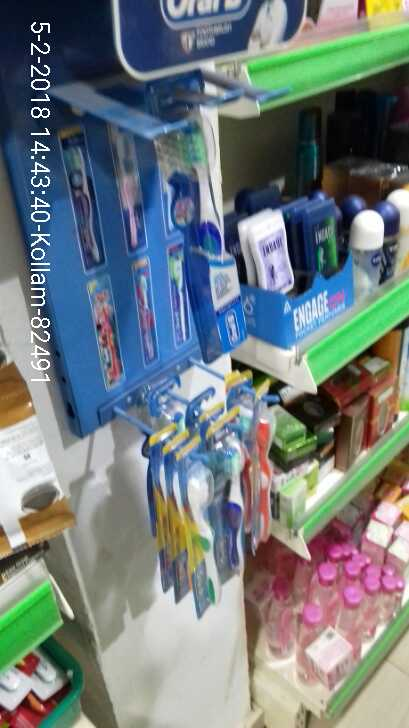oralb: (158, 115, 257, 364), (150, 441, 222, 611), (247, 400, 285, 544), (221, 441, 254, 561)
